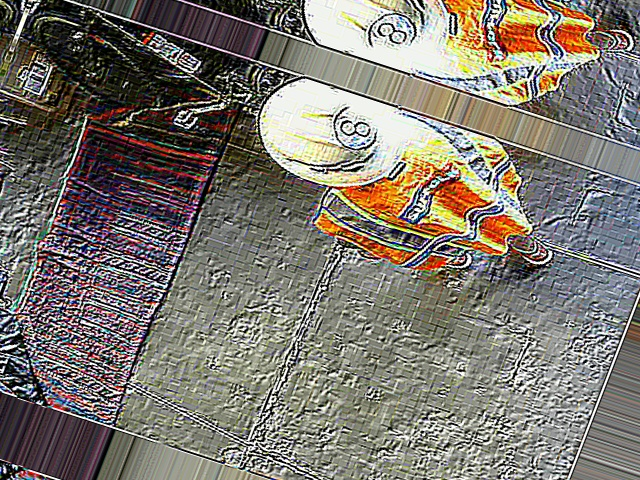eight: (323, 96, 386, 154)
